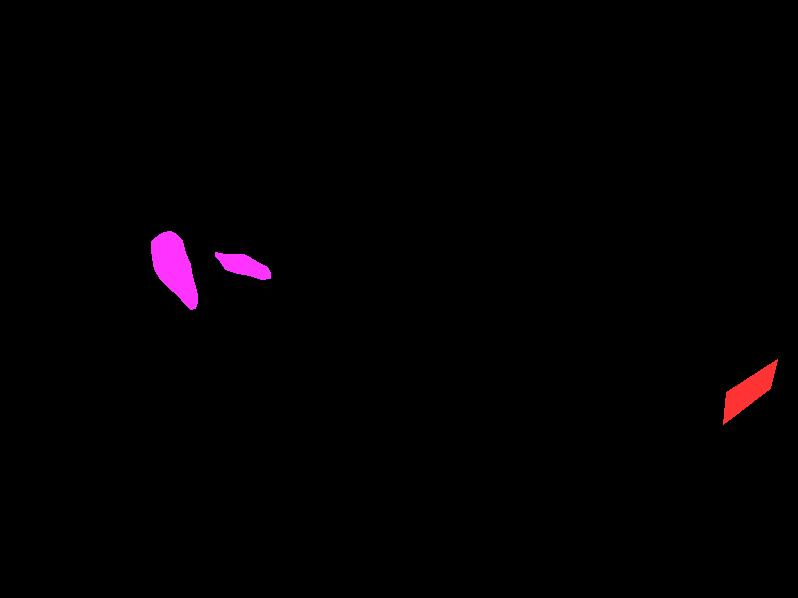Dent: (151, 231, 197, 309), (215, 252, 270, 279)
Missing part: (723, 359, 777, 424)
